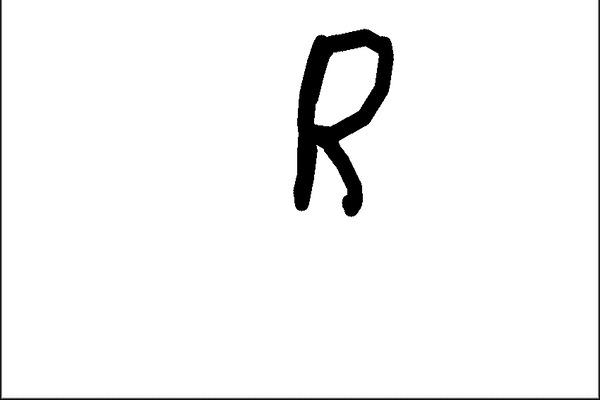R: (282, 22, 405, 218)
